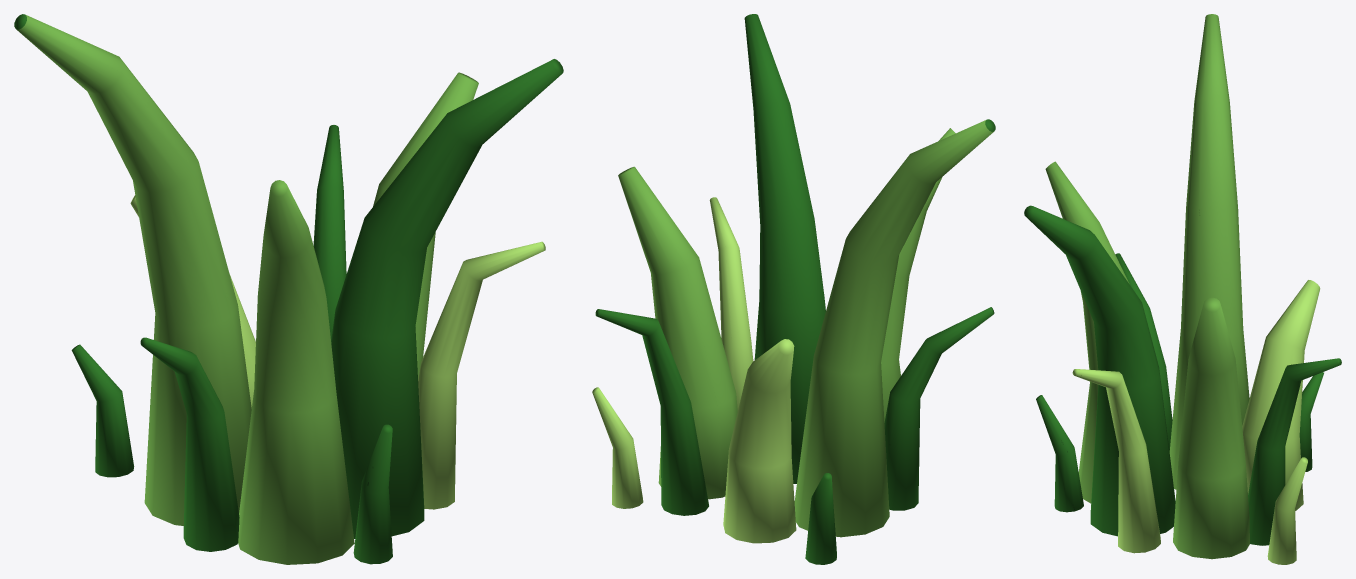
File: grass1.fbx
The picture shows the model from 3 angles, left to right: view 1: azimuth 30°, elevation 25°; view 2: azimuth 150°, elevation 25°; view 3: azimuth 270°, elevation 25°; orthographic projection. The views are drawn at different scales.
Visible parts, largest first — view 1: grass1; view 2: grass1; view 3: grass1.
Boxes of the visible parts, x1,y1,x2,y2 form: grass1: (14, 14, 563, 564); grass1: (592, 14, 995, 564); grass1: (1024, 14, 1341, 564).
Size of the model in its own units: 235 by 260 by 186.
